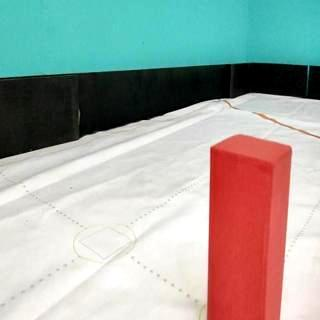redbox: (210, 133, 292, 320)
